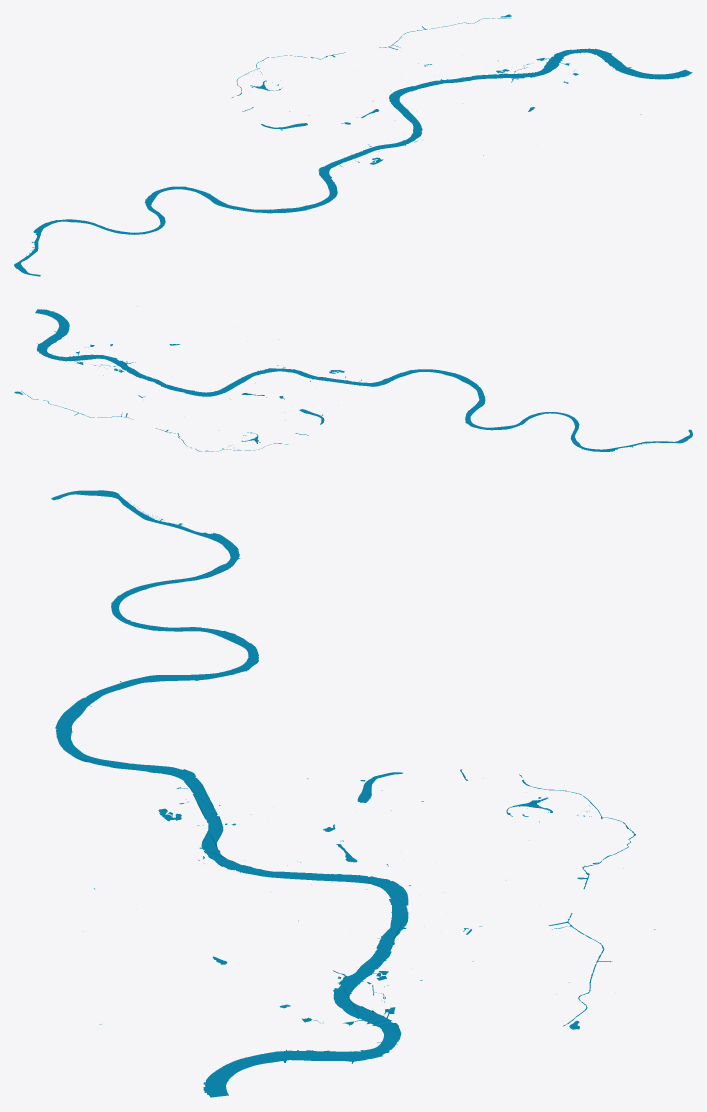
File: water.glb
3 views of the same model, one above another, from view 1: azimuth 30°, elevation 25°; view 2: azimuth 150°, elevation 25°; view 3: azimuth 270°, elevation 25° (orthographic). The views are drawn at different scales.
Visible parts, largest first — view 1: water; view 2: water; view 3: water.
Part boxes in pixels (box(x1,y1,x2,y2)): water: box(14, 14, 692, 276); water: box(14, 309, 692, 451); water: box(51, 490, 655, 1097).
Bounding box in the file's own units: 21789 × 55.86 × 9166.
